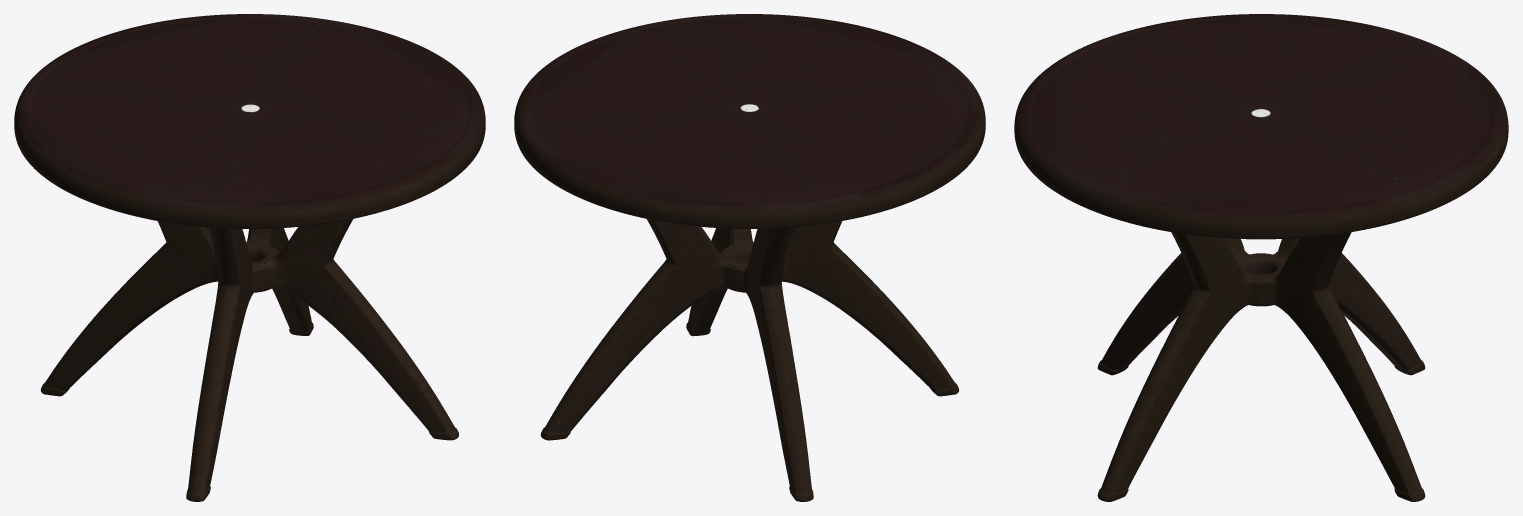
Rendered from 9508_Brown_v2.glb.
3 views of the same model, side by side, from view 1: azimuth 30°, elevation 25°; view 2: azimuth 150°, elevation 25°; view 3: azimuth 270°, elevation 25° (orthographic). The views are drawn at different scales.
Visible parts, largest first — view 1: mesh_node; view 2: mesh_node; view 3: mesh_node.
Part boxes in pixels (x1,y1,x2,y2): mesh_node: (14,14,485,501); mesh_node: (514,14,985,501); mesh_node: (1014,14,1508,501).
Size of the model in its own units: 1.9 by 1.36 by 1.9.
1 material, 1 textured.
